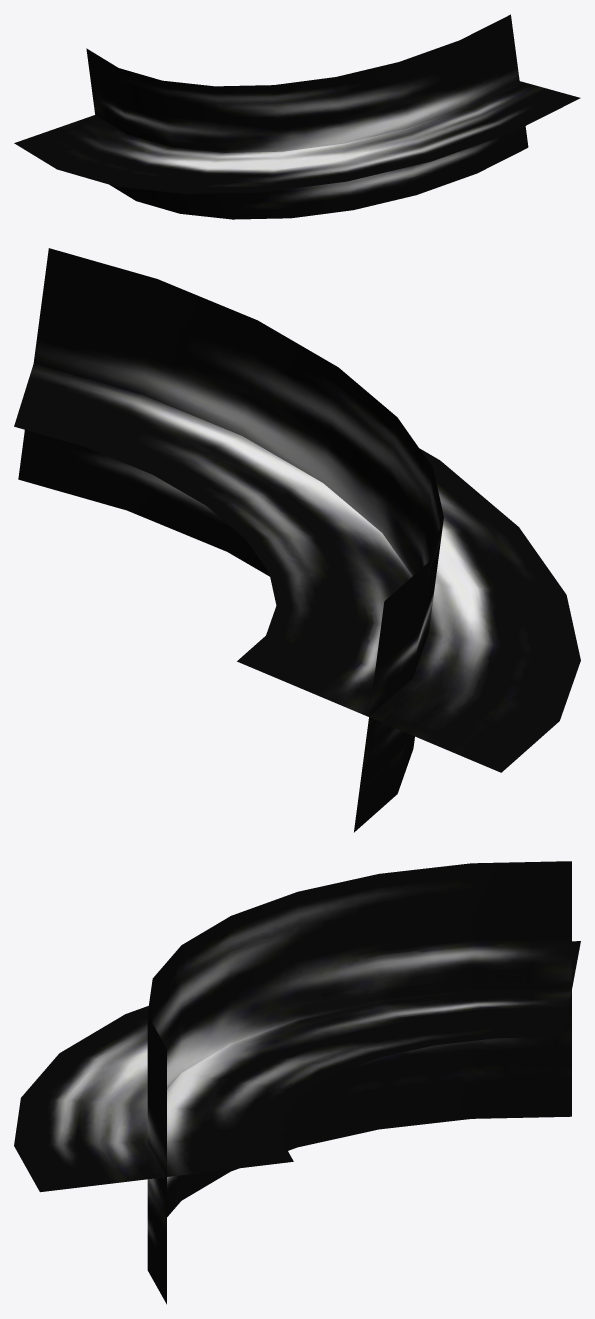
Rendered from daoguang #05801.fbx.
The picture shows the model from 3 angles, top to bottom: view 1: azimuth 30°, elevation 25°; view 2: azimuth 150°, elevation 25°; view 3: azimuth 270°, elevation 25°; orthographic projection. The views are drawn at different scales.
Visible parts, largest first — view 1: daoguang; view 2: daoguang; view 3: daoguang.
Part boxes in pixels (<box>): daoguang: <box>14,14,580,219</box>; daoguang: <box>14,248,580,832</box>; daoguang: <box>14,861,580,1304</box>.
Size of the model in its own units: 3.33 by 1.39 by 2.26.
Materials: 1 (1 with a texture image).
